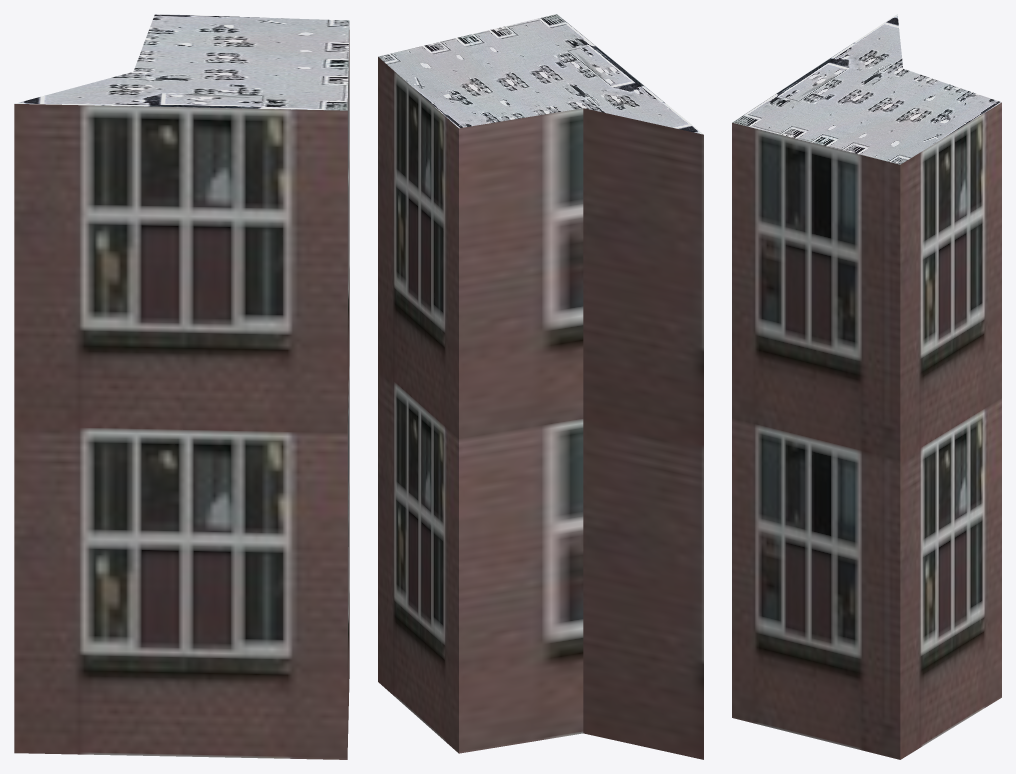
Rendered from ResTex__4462.fbx.
3 renders of one model, left to right at view 1: azimuth 30°, elevation 25°; view 2: azimuth 150°, elevation 25°; view 3: azimuth 270°, elevation 25°, orthographic. The views are drawn at different scales.
Parts seen in each view (by area): view 1: CityEngineMaterial_12_m, CityEngineMaterial_8_m; view 2: CityEngineMaterial_12_m, CityEngineMaterial_8_m; view 3: CityEngineMaterial_12_m, CityEngineMaterial_8_m.
Boxes of the visible parts, left/top/right/bottom form: CityEngineMaterial_12_m: left=14, top=30, right=349, bottom=759; CityEngineMaterial_8_m: left=14, top=14, right=349, bottom=110; CityEngineMaterial_12_m: left=378, top=57, right=703, bottom=759; CityEngineMaterial_8_m: left=378, top=14, right=703, bottom=134; CityEngineMaterial_12_m: left=732, top=102, right=1001, bottom=759; CityEngineMaterial_8_m: left=732, top=14, right=1001, bottom=164.
Size of the model in its own units: 3.26 by 6 by 2.46.
Materials: 2 (2 with a texture image).
